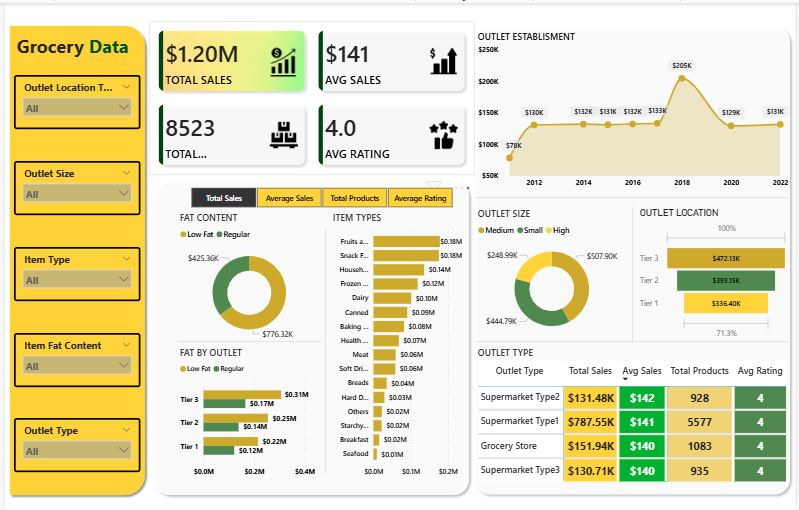

What the dashboard file says about the page in this screenshot:
{"tool":"powerbi","page":{"name":"Page 1","canvas":[1400,900],"ordinal":0},"visuals":[{"type":"shape","box":[0,32,256,848],"z":0},{"type":"textbox","box":[16,48,224,64],"z":1000},{"type":"cardVisual","fields":{"Data":["Grocery Data.Total Sales","Grocery Data.Average Sales","Grocery Data.Total Products","Grocery Data.Average Rating"]},"box":[256,32,576,272],"z":2000},{"type":"shape","box":[256,304,576,576],"z":3000},{"type":"slicer","fields":{"Values":["MATRIX.MATRIX"]},"box":[304,320,512,48],"z":4000},{"type":"donutChart","title":"FAT CONTENT","fields":{"Y":["Grocery Data.Total Sales"],"Category":["Grocery Data.Item Fat Content"]},"box":[304,368,256,240],"z":5000},{"type":"clusteredBarChart","title":"FAT BY OUTLET","fields":{"Y":["Grocery Data.Total Sales"],"Category":["Grocery Data.Outlet Location Type"],"Series":["Grocery Data.Item Fat Content"]},"box":[304,608,256,240],"z":5001},{"type":"shape","box":[304,592,256,16],"z":5002},{"type":"shape","box":[560,400,16,432],"z":5003},{"type":"barChart","title":"ITEM TYPES","fields":{"Category":["Grocery Data.Item Type"],"Y":["Grocery Data.Total Sales"]},"box":[576,368,256,480],"z":5004},{"type":"shape","box":[824,32,576,848],"z":5005},{"type":"lineChart","title":"OUTLET ESTABLISMENT","fields":{"Category":["Grocery Data.Outlet Establishment Year"],"Y":["Grocery Data.Total Sales"]},"box":[832,48,560,288],"z":5006},{"type":"shape","box":[832,336,560,16],"z":5007},{"type":"donutChart","title":"OUTLET SIZE","fields":{"Y":["Grocery Data.Total Sales"],"Category":["Grocery Data.Outlet Size"]},"box":[832,362.3,272,240],"z":5008},{"type":"shape","box":[1104,362.3,16,240],"z":5009},{"type":"funnel","title":"OUTLET LOCATION","fields":{"Y":["Grocery Data.Total Sales"],"Category":["Grocery Data.Outlet Location Type"]},"box":[1120,362.3,272,240],"z":5010},{"type":"shape","box":[832,592,560,16],"z":5011},{"type":"pivotTable","title":"OUTLET TYPE","fields":{"Rows":["Grocery Data.Outlet Type"],"Values":["Grocery Data.Total Sales","Grocery Data.Average Sales","Grocery Data.Total Products","Grocery Data.Average Rating"]},"box":[832,608,560,256],"z":5012},{"type":"slicer","fields":{"Values":["Grocery Data.Outlet Location Type"]},"box":[16,128,224,96],"z":5013},{"type":"slicer","fields":{"Values":["Grocery Data.Outlet Size"]},"box":[16,280,224,96],"z":5014},{"type":"slicer","fields":{"Values":["Grocery Data.Item Type"]},"box":[16,432,224,96],"z":5015},{"type":"slicer","fields":{"Values":["Grocery Data.Item Fat Content"]},"box":[16,584,224,96],"z":5016},{"type":"slicer","fields":{"Values":["Grocery Data.Outlet Type"]},"box":[16,736,224,96],"z":5017}]}

Visuals, with their boxes in screenshot pixels (x1, y1, x2, y2), scaled from the page's 1400x900 canvas onto the 799x510 screenshot:
shape: bbox=(0, 18, 146, 499)
textbox: bbox=(9, 27, 137, 63)
cardVisual - Grocery Data.Total Sales x Grocery Data.Average Sales: bbox=(146, 18, 475, 172)
shape: bbox=(146, 172, 475, 499)
slicer - MATRIX.MATRIX: bbox=(173, 181, 466, 209)
"FAT CONTENT" donutChart: bbox=(173, 209, 320, 345)
"FAT BY OUTLET" clusteredBarChart: bbox=(173, 345, 320, 481)
shape: bbox=(173, 335, 320, 345)
shape: bbox=(320, 227, 329, 471)
"ITEM TYPES" barChart: bbox=(329, 209, 475, 481)
shape: bbox=(470, 18, 798, 499)
"OUTLET ESTABLISMENT" lineChart: bbox=(475, 27, 794, 190)
shape: bbox=(475, 190, 794, 199)
"OUTLET SIZE" donutChart: bbox=(475, 205, 630, 341)
shape: bbox=(630, 205, 639, 341)
"OUTLET LOCATION" funnel: bbox=(639, 205, 794, 341)
shape: bbox=(475, 335, 794, 345)
"OUTLET TYPE" pivotTable: bbox=(475, 345, 794, 490)
slicer - Grocery Data.Outlet Location Type: bbox=(9, 73, 137, 127)
slicer - Grocery Data.Outlet Size: bbox=(9, 159, 137, 213)
slicer - Grocery Data.Item Type: bbox=(9, 245, 137, 299)
slicer - Grocery Data.Item Fat Content: bbox=(9, 331, 137, 385)
slicer - Grocery Data.Outlet Type: bbox=(9, 417, 137, 471)
